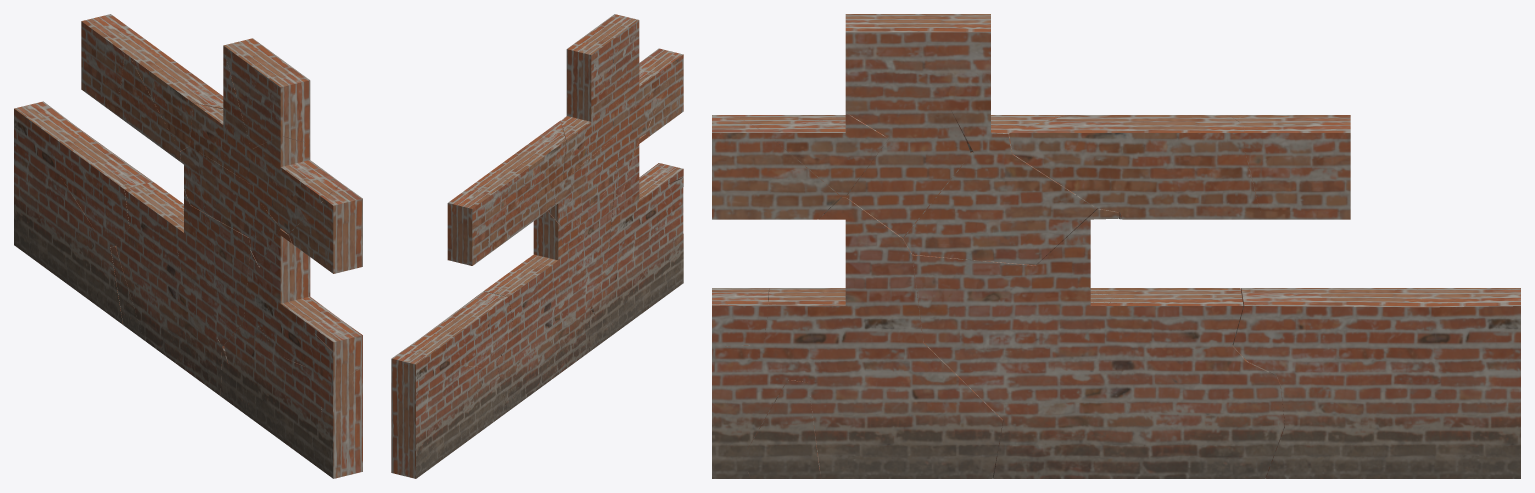
File: Skate Wall 1.fbx
3 views of the same model, side by side, from view 1: azimuth 30°, elevation 25°; view 2: azimuth 150°, elevation 25°; view 3: azimuth 270°, elevation 25° (orthographic). The views are drawn at different scales.
Visible parts, largest first — view 1: Skate Wall 1.003, Skate Wall 1, Skate Wall 1.001, Skate Wall 1.002, Skate Wall 1.004; view 2: Skate Wall 1.003, Skate Wall 1.002, Skate Wall 1.001, Skate Wall 1, Skate Wall 1.004; view 3: Skate Wall 1.001, Skate Wall 1.003, Skate Wall 1, Skate Wall 1.002, Skate Wall 1.004.
Boxes of the visible parts, <box> form: Skate Wall 1.003: <box>180,38,362,273</box>; Skate Wall 1: <box>220,228,362,478</box>; Skate Wall 1.001: <box>110,181,250,395</box>; Skate Wall 1.002: <box>14,101,152,324</box>; Skate Wall 1.004: <box>81,14,223,161</box>; Skate Wall 1.003: <box>548,14,683,228</box>; Skate Wall 1.002: <box>391,291,512,478</box>; Skate Wall 1.001: <box>483,185,613,411</box>; Skate Wall 1: <box>589,134,683,351</box>; Skate Wall 1.004: <box>447,120,565,265</box>; Skate Wall 1.001: <box>912,209,1284,478</box>; Skate Wall 1.003: <box>712,14,1098,265</box>; Skate Wall 1: <box>712,197,1002,478</box>; Skate Wall 1.002: <box>1232,288,1520,478</box>; Skate Wall 1.004: <box>1009,115,1350,219</box>.
Bounding box in the file's own units: 0.15 × 1.72 × 2.82.
